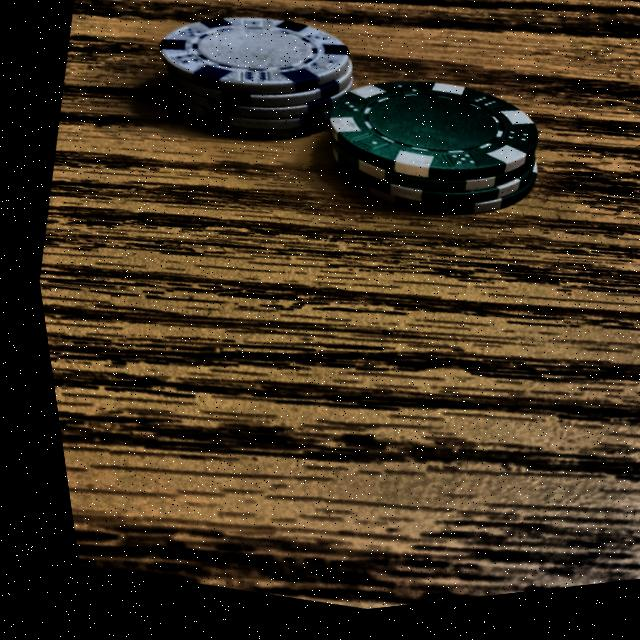Chip: (277, 30, 572, 275), (114, 0, 385, 201)
